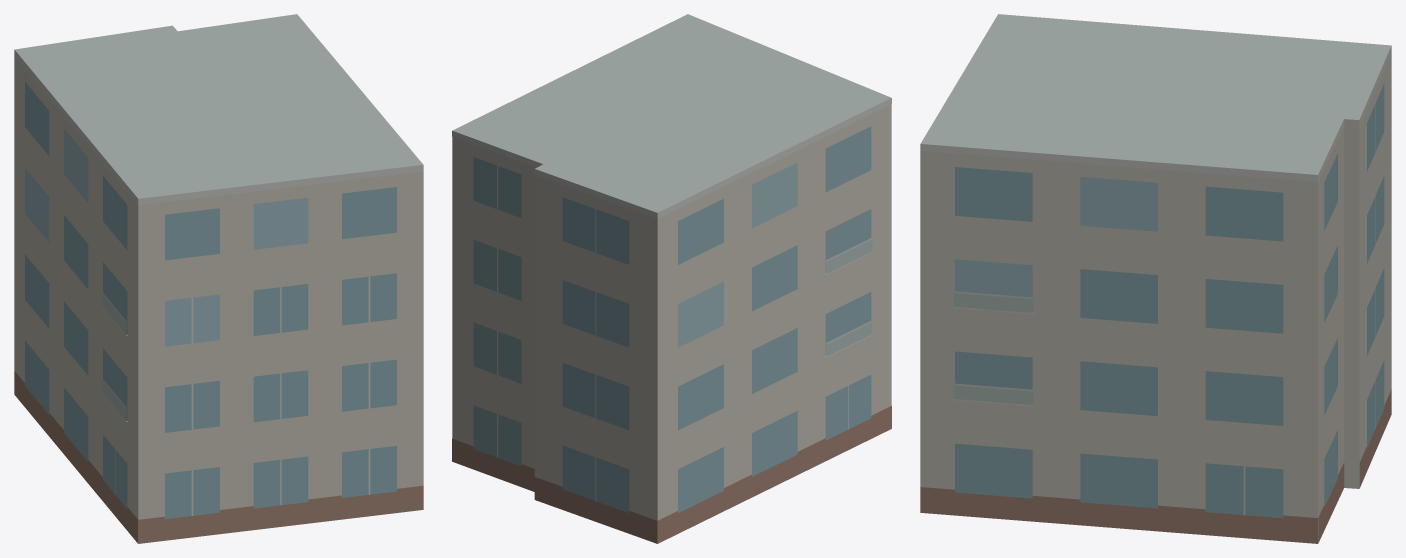
Rendered from survey-upis-32807981.glb.
3 renders of one model, left to right at view 1: azimuth 30°, elevation 25°; view 2: azimuth 150°, elevation 25°; view 3: azimuth 270°, elevation 25°, orthographic. The views are drawn at different scales.
Visible parts, largest first — view 1: survey-upis-32807981.tmp; view 2: survey-upis-32807981.tmp; view 3: survey-upis-32807981.tmp.
Boxes of the visible parts, x1,y1,x2,y2 form: survey-upis-32807981.tmp: (14, 14, 423, 543); survey-upis-32807981.tmp: (452, 14, 891, 543); survey-upis-32807981.tmp: (920, 14, 1391, 543).
Size of the model in its own units: 12.18 by 13 by 15.06.
